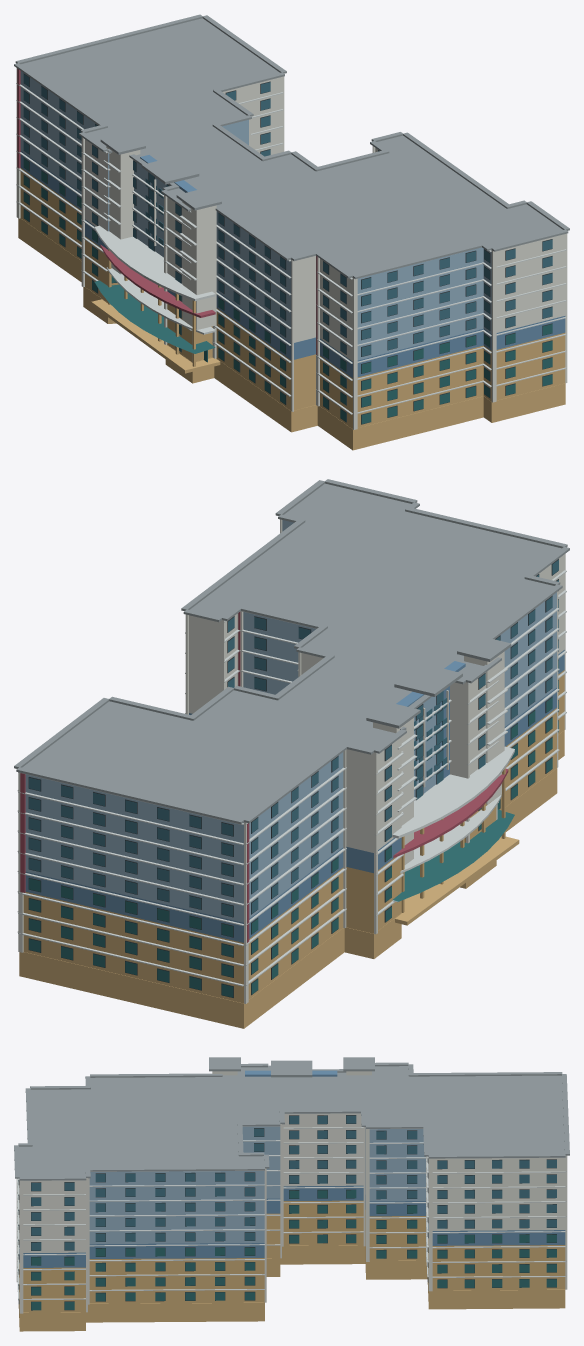
The model's file is mjiit_lod1.glb.
The picture shows the model from 3 angles, top to bottom: view 1: azimuth 30°, elevation 25°; view 2: azimuth 150°, elevation 25°; view 3: azimuth 270°, elevation 25°; orthographic projection. The views are drawn at different scales.
Parts seen in each view (by area): view 1: Roof, WarmBase, PaintCream, PaintBlue, Sunshade, GlassDusk, GlassGreen, Recess, DarkBlue, RedAccent; view 2: Roof, WarmBase, PaintBlue, PaintCream, Sunshade, GlassDusk, GlassGreen, DarkBlue, Recess, RedAccent; view 3: Roof, WarmBase, PaintCream, PaintBlue, Sunshade, GlassDusk, GlassGreen, DarkBlue, Recess.
Part boxes in pixels (x1,y1,x2,y2): Roof: (14, 14, 569, 279); WarmBase: (18, 168, 565, 450); PaintCream: (16, 68, 567, 429); PaintBlue: (20, 71, 491, 360); Sunshade: (16, 83, 566, 414); GlassDusk: (23, 74, 552, 356); GlassGreen: (23, 158, 552, 423); Recess: (23, 73, 552, 424); DarkBlue: (20, 151, 565, 378); RedAccent: (17, 68, 317, 354); Roof: (14, 479, 569, 824); WarmBase: (19, 670, 564, 1028); PaintBlue: (25, 520, 556, 922); PaintCream: (18, 519, 565, 1003); Sunshade: (17, 570, 566, 986); GlassDusk: (29, 559, 558, 916); GlassGreen: (29, 660, 558, 997); DarkBlue: (25, 650, 564, 942); Recess: (28, 559, 558, 997); RedAccent: (20, 612, 508, 942); Roof: (14, 1057, 569, 1180); WarmBase: (18, 1200, 565, 1331); PaintCream: (16, 1071, 567, 1313); PaintBlue: (89, 1126, 425, 1244); Sunshade: (17, 1113, 567, 1299); GlassDusk: (18, 1115, 556, 1250); GlassGreen: (18, 1190, 556, 1310); DarkBlue: (19, 1070, 565, 1267); Recess: (18, 1115, 556, 1310).
Size of the model in its own units: 61.33 by 37.49 by 118.
